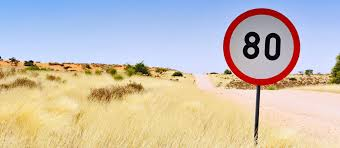Speed_limit_80km: (223, 8, 301, 85)
